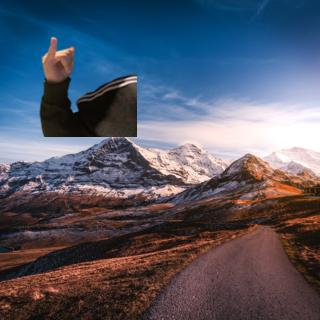HAVE: (36, 30, 79, 85)
